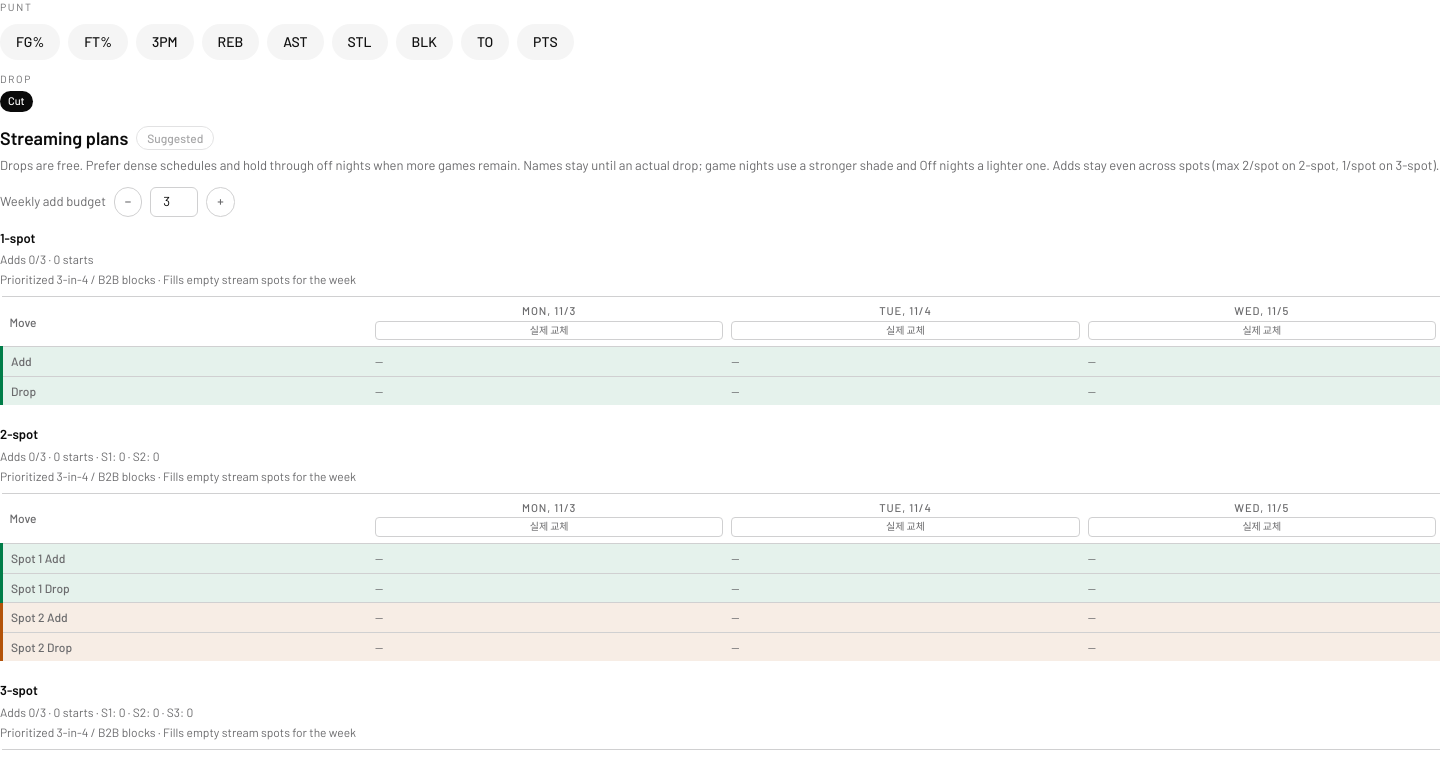
StreamingPlansPanel › rebuilds plans when weekly add budget changes
Click the button named "decrease weekly add budget": (128, 202) [114,187,142,217]
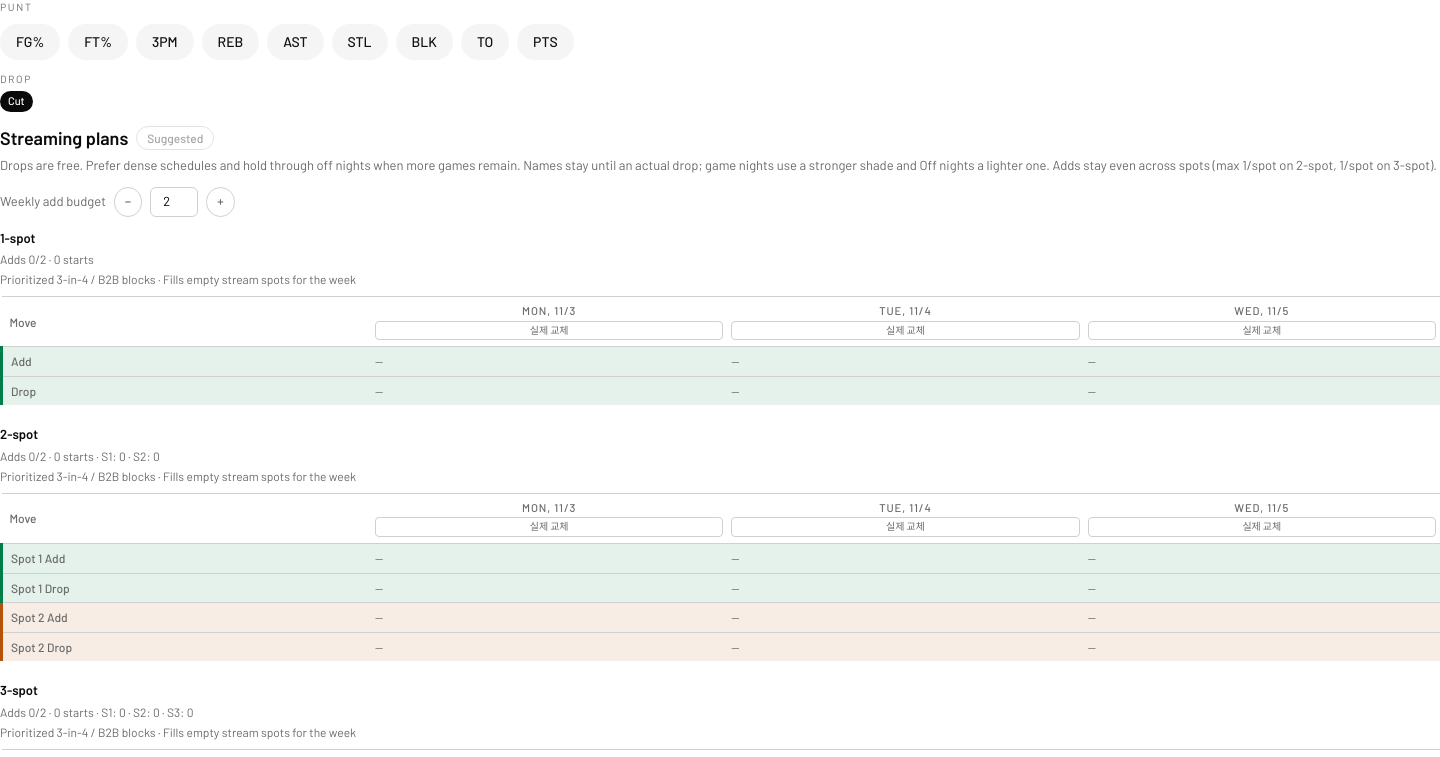
Expected: the number field labelled "Weekly add budget" holds "2", [150,187,198,217]
Expected: the text "Adds 0/2 · 0 starts" is shown, [0,252,94,266]
Click the button named "increase weekly add budget": (220, 202) [206,187,235,217]
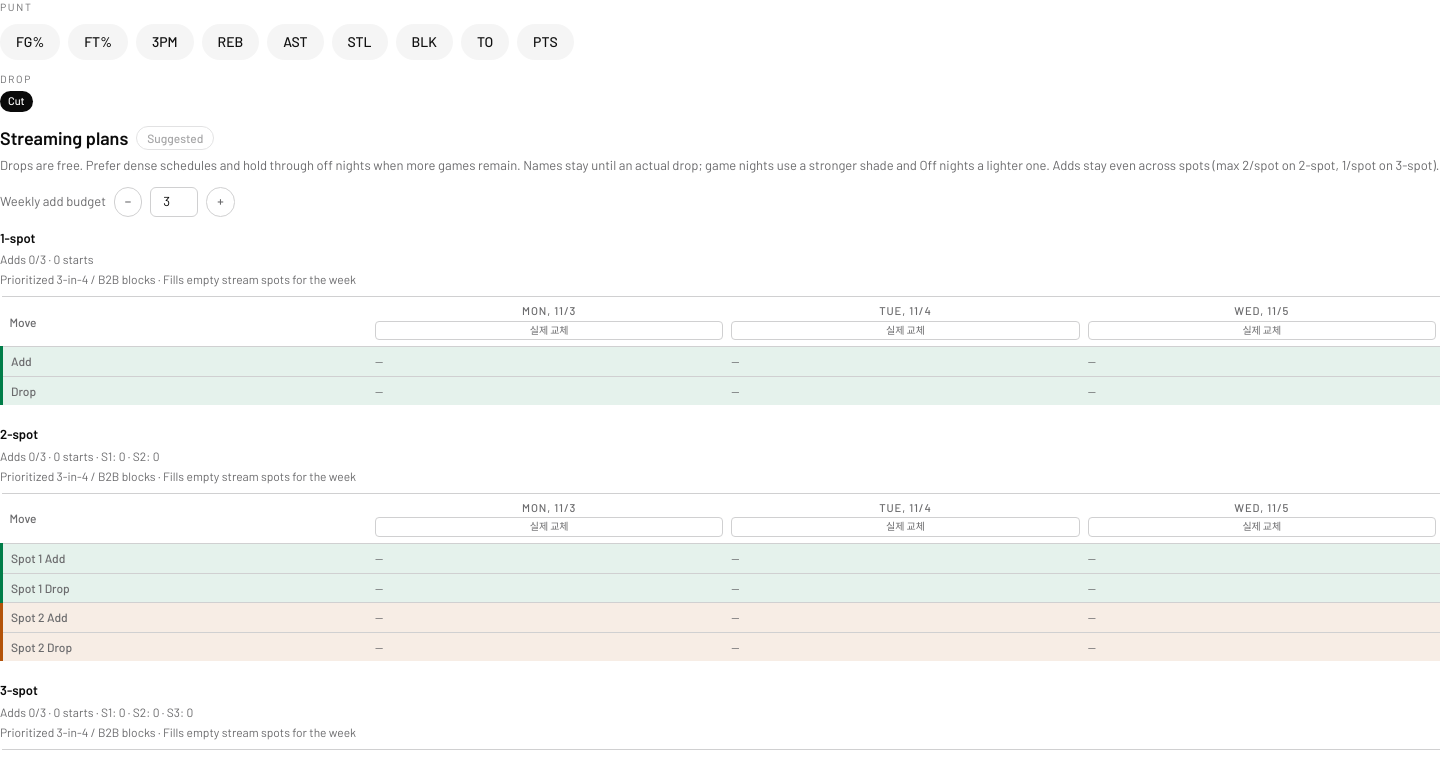
Click the button named "increase weekly add budget": (220, 202) [206,187,235,217]
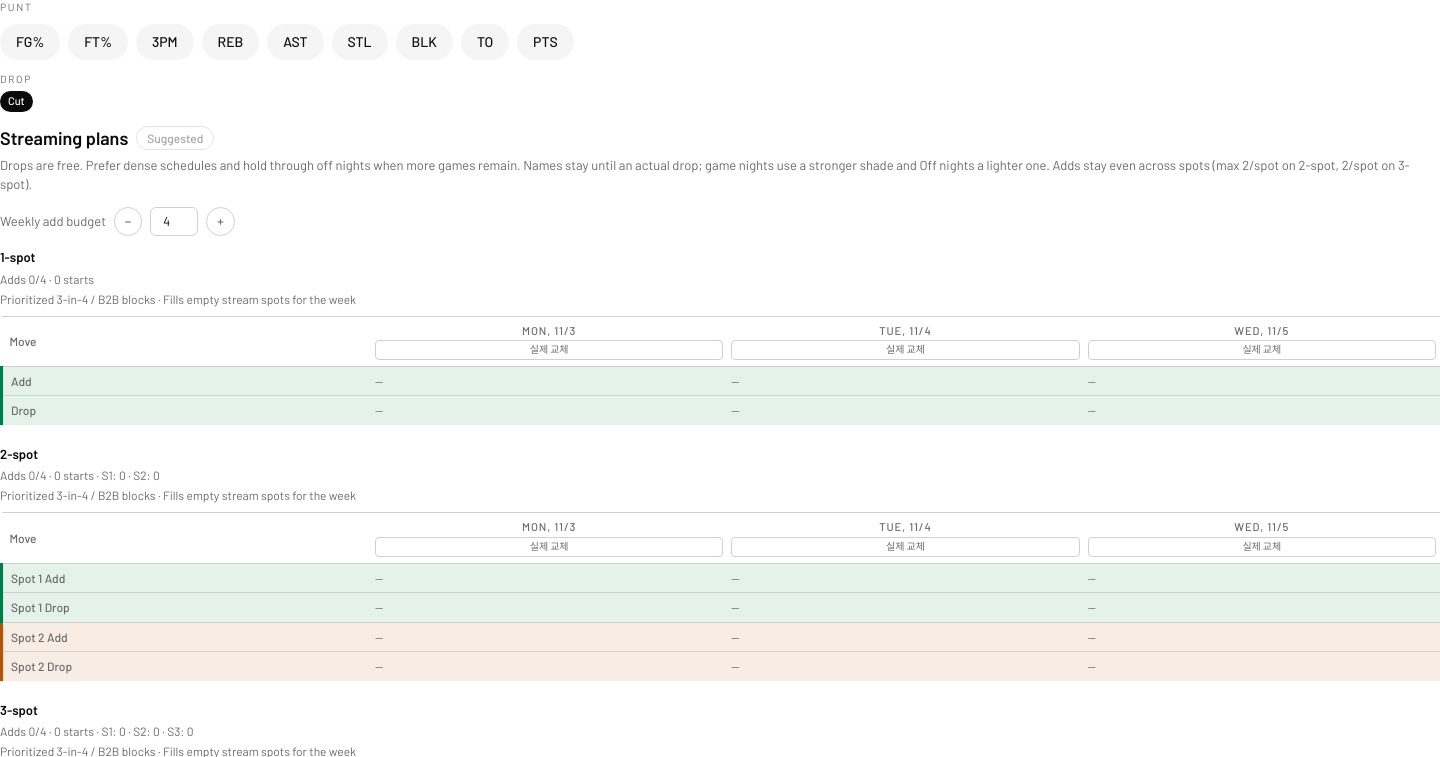
Expected: the number field labelled "Weekly add budget" holds "4", [150,207,198,236]
Expected: the text "Adds 0/4 · 0 starts" is shown, [0,272,94,286]
